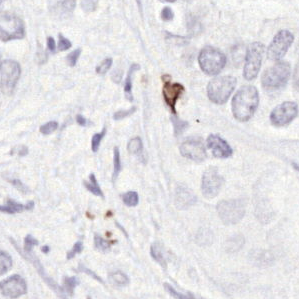Lymphocyte: (159, 81, 186, 112)
